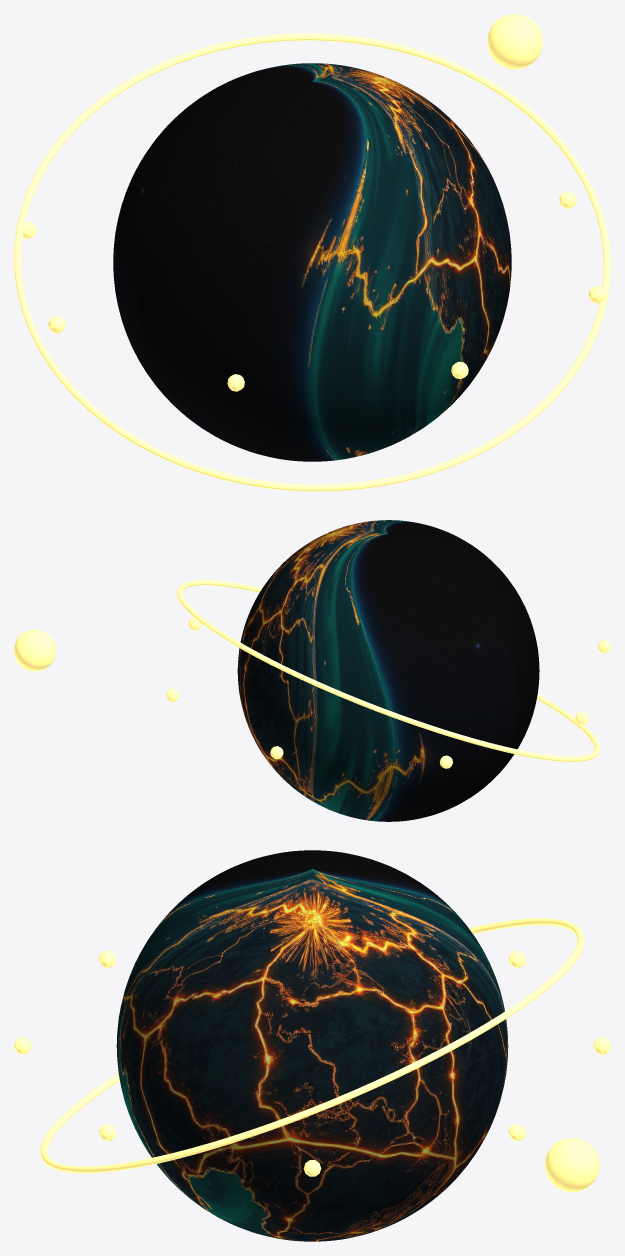
File: zoth_prime.glb
The picture shows the model from 3 angles, top to bottom: view 1: azimuth 30°, elevation 25°; view 2: azimuth 150°, elevation 25°; view 3: azimuth 270°, elevation 25°; orthographic projection. The views are drawn at different scales.
Parts seen in each view (by area): view 1: Planet_zoth_prime, OrbitalRing_zoth_prime, Moon_0; view 2: Planet_zoth_prime, OrbitalRing_zoth_prime, Moon_0; view 3: Planet_zoth_prime, OrbitalRing_zoth_prime, Moon_0.
Boxes of the visible parts, x1,y1,x2,y2 form: Planet_zoth_prime: (113,63,511,461); OrbitalRing_zoth_prime: (14,33,610,491); Moon_0: (487,14,542,69); Planet_zoth_prime: (237,520,539,821); OrbitalRing_zoth_prime: (177,580,599,761); Moon_0: (14,629,55,671); Planet_zoth_prime: (116,850,508,1241); OrbitalRing_zoth_prime: (40,918,584,1173); Moon_0: (545,1137,599,1192).
Size of the model in its own units: 3.6 by 2 by 3.05.
2 materials, 1 textured.
